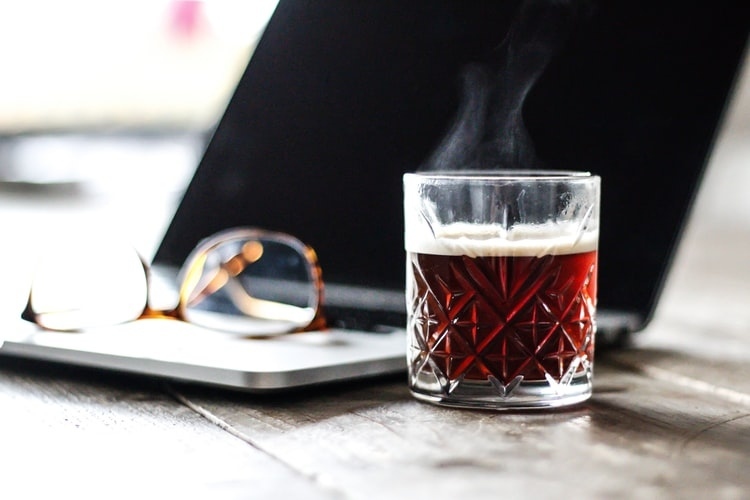whiskey: (393, 169, 598, 403)
